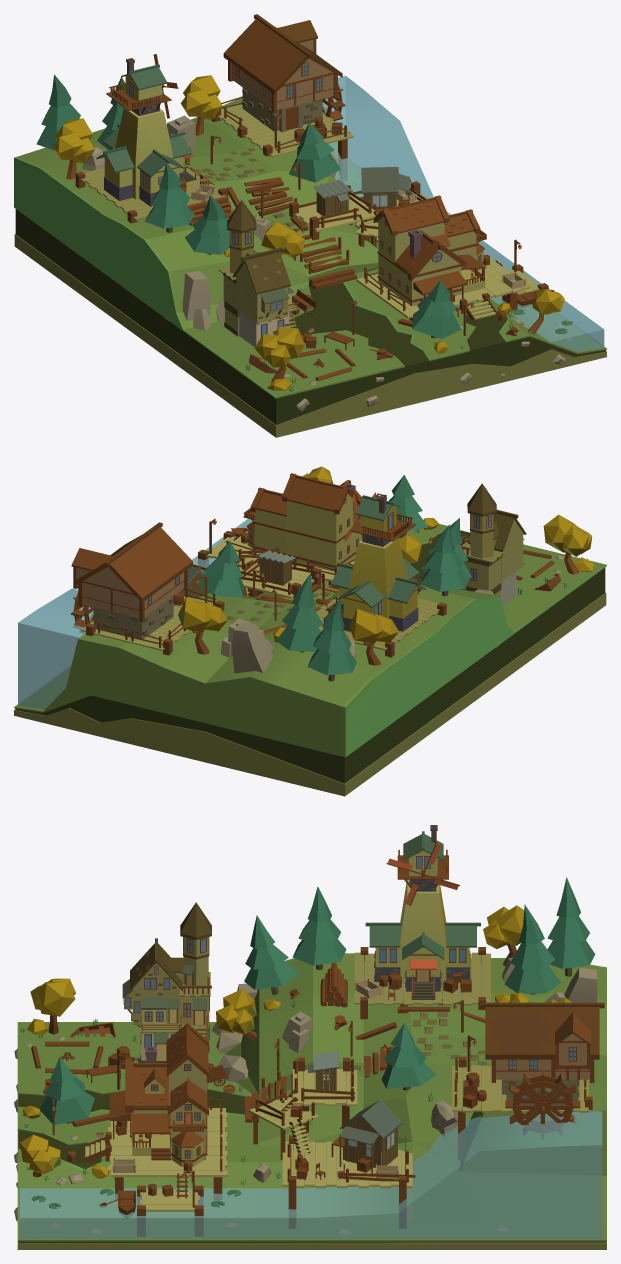
Rendered from forest.glb.
3 views of the same model, one above another, from view 1: azimuth 30°, elevation 25°; view 2: azimuth 150°, elevation 25°; view 3: azimuth 270°, elevation 25° (orthographic). The views are drawn at different scales.
Visible parts, largest first — view 1: Soil, Tree_2, Water, B_House_1, B_House_5, B_House_4, Tree_1, B_House_3, Wood, Rock, Wood_floor_1, Wood_floor_3 (+11 smaller); view 2: Soil, Tree_2, B_House_5, B_House_1, B_House_4, Water, Tree_1, B_House_3, Rock, Wood_floor_3, Wood_floor_2, Wood_floor_4 (+7 smaller); view 3: Soil, Water, Tree_2, B_House_1, Wood_floor_2, B_House_5, B_House_4, Wood_floor_1, Tree_1, Rock, B_House_3, Wood (+18 smaller).
Boxes of the visible parts, box(x1,y1,x2,y2) form: Soil: box(14, 98, 606, 437); Tree_2: box(36, 74, 461, 338); Water: box(322, 75, 604, 351); B_House_1: box(373, 195, 486, 306); B_House_5: box(223, 14, 342, 132); B_House_4: box(96, 58, 196, 206); Tree_1: box(53, 75, 564, 382); B_House_3: box(222, 200, 291, 347); Wood: box(185, 147, 412, 380); Rock: box(82, 115, 571, 411); Wood_floor_1: box(356, 242, 548, 321); Wood_floor_3: box(211, 96, 353, 180); Soil: box(14, 524, 606, 796); Tree_2: box(195, 475, 471, 681); B_House_5: box(71, 522, 192, 638); B_House_1: box(243, 473, 362, 571); B_House_4: box(325, 495, 425, 631); Water: box(18, 518, 254, 709); Tree_1: box(178, 466, 592, 665); B_House_3: box(463, 483, 526, 605); Rock: box(221, 556, 564, 673); Wood_floor_3: box(81, 589, 224, 655); Wood_floor_2: box(193, 547, 321, 598); Wood_floor_4: box(316, 594, 447, 657); Soil: box(17, 953, 606, 1249); Water: box(20, 1111, 602, 1238); Tree_2: box(39, 877, 595, 1124); B_House_1: box(109, 1023, 208, 1166); Wood_floor_2: box(249, 1057, 415, 1228); B_House_5: box(480, 1002, 604, 1105); B_House_4: box(365, 825, 480, 1000); Wood_floor_1: box(84, 1096, 227, 1236); Tree_1: box(20, 905, 571, 1177); Rock: box(14, 957, 597, 1235); B_House_3: box(124, 902, 211, 1060); Wood: box(31, 962, 485, 1126).
Size of the model in its own units: 8.47 by 5.62 by 11.48.
38 materials, 38 textured.
